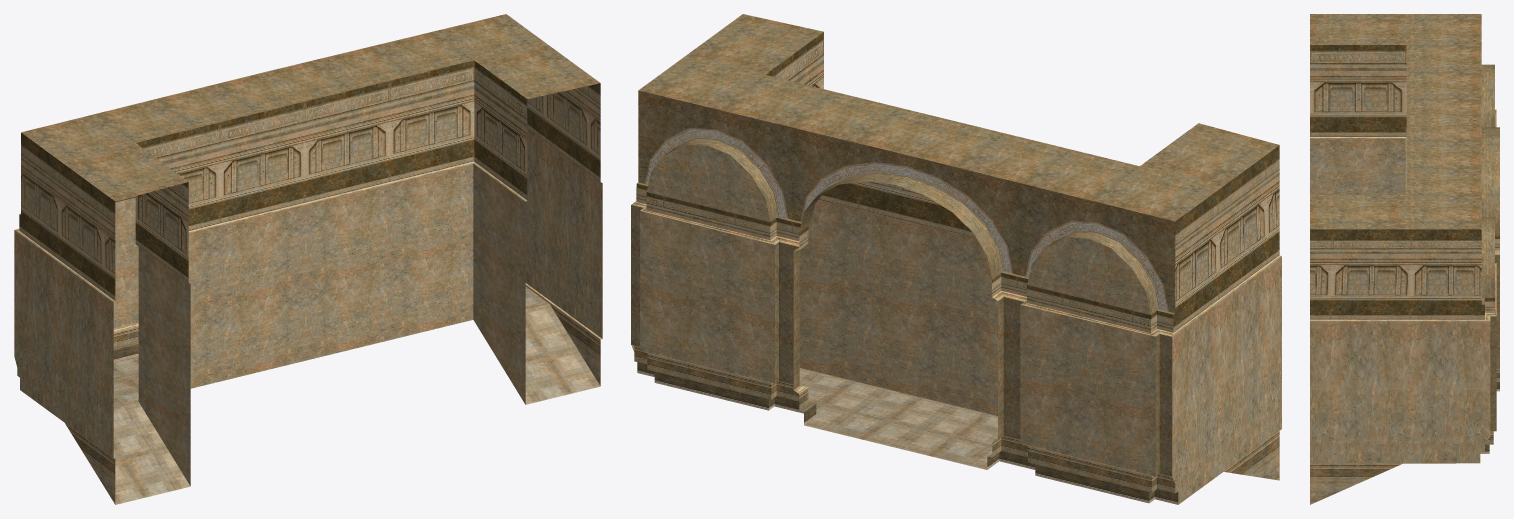
The model's file is thm_lok_nyms_stronghold_r2_foyer1_r2_foyer1.fbx.
The picture shows the model from 3 angles, left to right: view 1: azimuth 30°, elevation 25°; view 2: azimuth 150°, elevation 25°; view 3: azimuth 270°, elevation 25°; orthographic projection. The views are drawn at different scales.
Parts seen in each view (by area): view 1: mesh_node; view 2: mesh_node; view 3: mesh_node.
Boxes of the visible parts, <box> form: mesh_node: <box>14,14,602,504</box>; mesh_node: <box>631,14,1281,504</box>; mesh_node: <box>1310,14,1499,504</box>.
Bounding box in the file's own units: 26 × 15.5 × 9.62.
